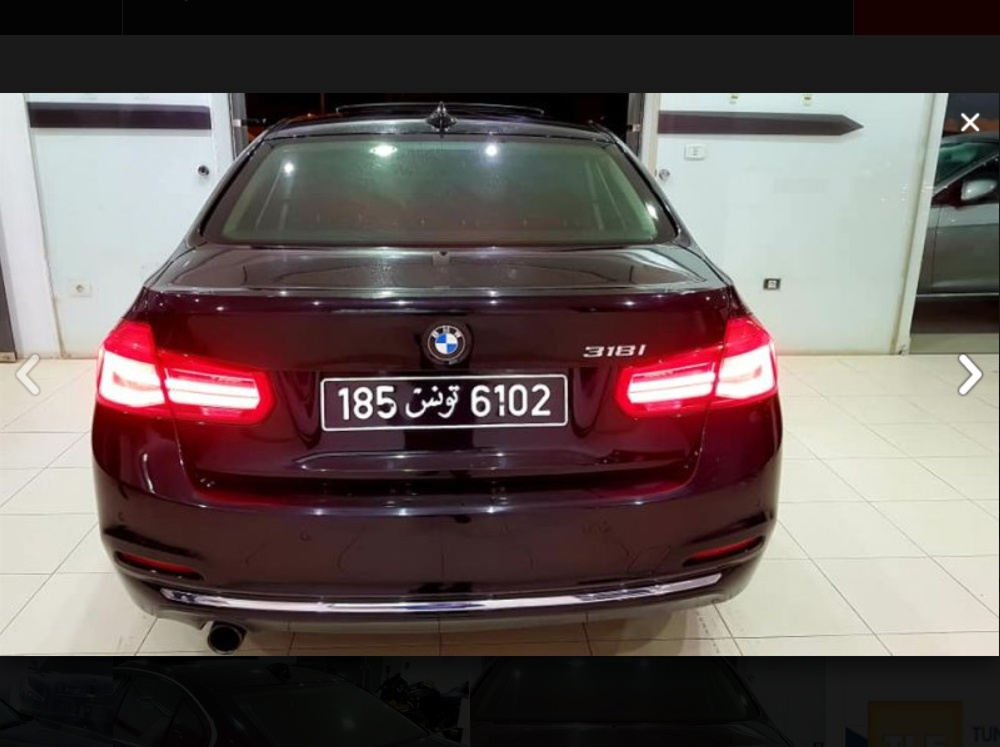LP: (313, 374, 577, 439)
